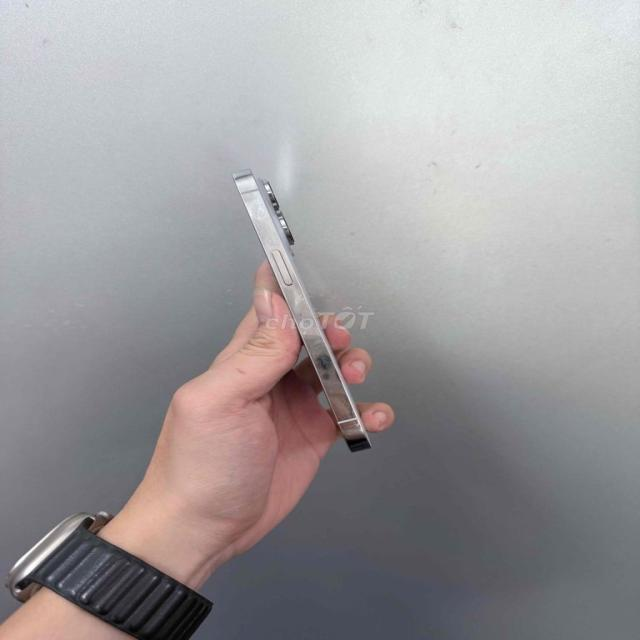gen_14: (222, 150, 406, 462)
scratch: (301, 326, 342, 375), (331, 396, 373, 438)
